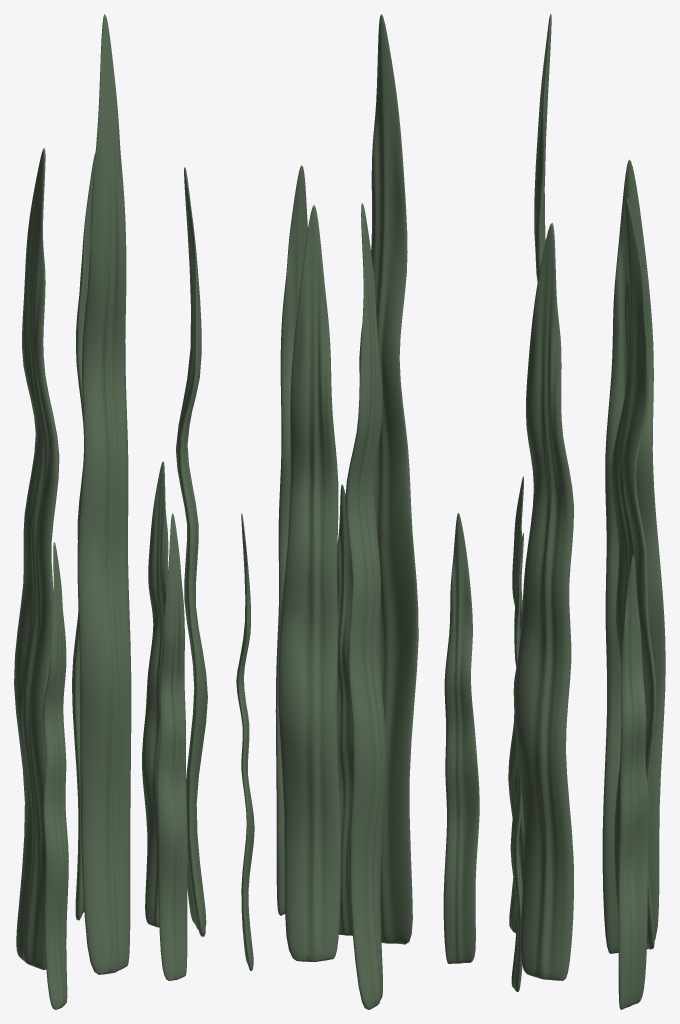
The model's file is Seaweed Large.fbx.
3 renders of one model, left to right at view 1: azimuth 30°, elevation 25°; view 2: azimuth 150°, elevation 25°; view 3: azimuth 270°, elevation 25°, orthographic.
Parts seen in each view (by area): view 1: pCube10, pCube13, pCube16, pCube11, pCube15, pCube14, pCube12; view 2: pCube12, pCube10, pCube13, pCube15, pCube11, pCube16, pCube14; view 3: pCube11, pCube13, pCube12, pCube14, pCube16, pCube10, pCube15.
Part boxes in pixels (left/top/right/bottom): pCube10: left=77, top=14, right=131, bottom=974; pCube13: left=14, top=148, right=59, bottom=969; pCube16: left=156, top=513, right=187, bottom=980; pCube11: left=176, top=167, right=207, bottom=936; pCube15: left=43, top=542, right=68, bottom=1009; pCube14: left=142, top=461, right=168, bottom=927; pCube12: left=72, top=152, right=95, bottom=920; pCube12: left=278, top=205, right=340, bottom=961; pCube10: left=359, top=14, right=418, bottom=944; pCube13: left=345, top=203, right=386, bottom=1009; pCube15: left=443, top=513, right=479, bottom=963; pCube11: left=275, top=165, right=307, bottom=915; pCube16: left=337, top=484, right=353, bottom=935; pCube14: left=236, top=513, right=254, bottom=970; pCube11: left=515, top=223, right=573, bottom=980; pCube13: left=602, top=159, right=665, bottom=953; pCube12: left=611, top=198, right=657, bottom=949; pCube14: left=618, top=555, right=649, bottom=1009; pCube16: left=510, top=533, right=523, bottom=991; pCube10: left=534, top=14, right=551, bottom=281; pCube15: left=508, top=476, right=523, bottom=933.
Bounding box in the file's own units: 4.83 × 23.9 × 3.57.
